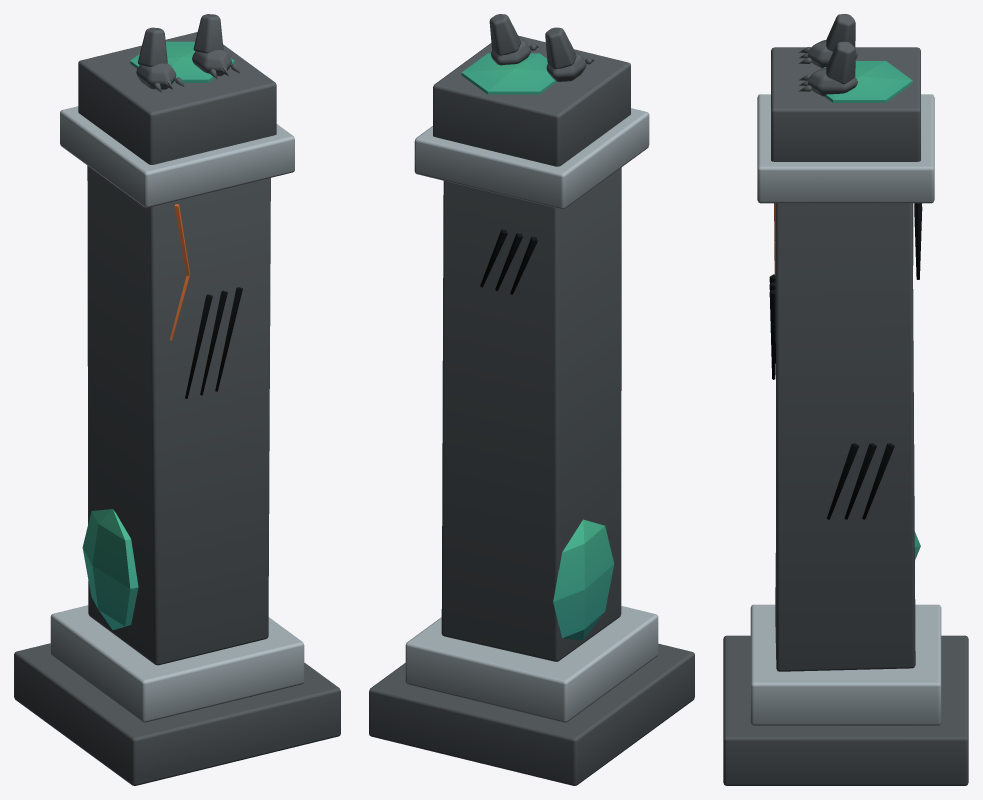
The model's file is gargoyle_perch.glb.
3 renders of one model, left to right at view 1: azimuth 30°, elevation 25°; view 2: azimuth 150°, elevation 25°; view 3: azimuth 270°, elevation 25°, orthographic.
Parts seen in each view (by area): view 1: gargoyle_perch; view 2: gargoyle_perch; view 3: gargoyle_perch.
Part boxes in pixels (x1=…): gargoyle_perch: x1=14, y1=14, x2=340, y2=785; gargoyle_perch: x1=369, y1=14, x2=694, y2=785; gargoyle_perch: x1=723, y1=14, x2=968, y2=785.
Bounding box in the file's own units: 1.8 × 5.73 × 1.8.
1 material, 1 textured.
